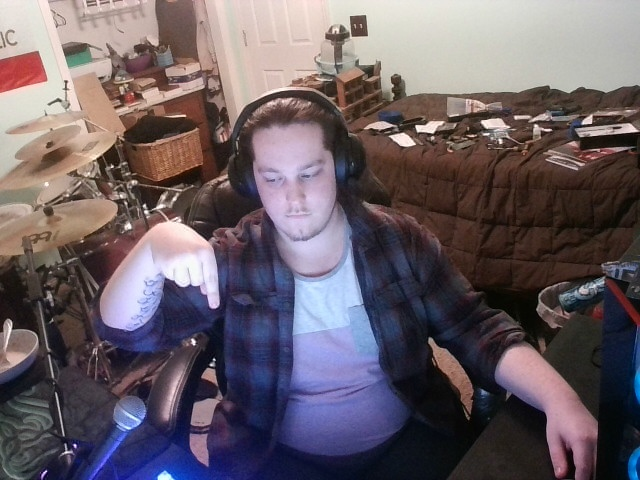down: (112, 201, 246, 340)
